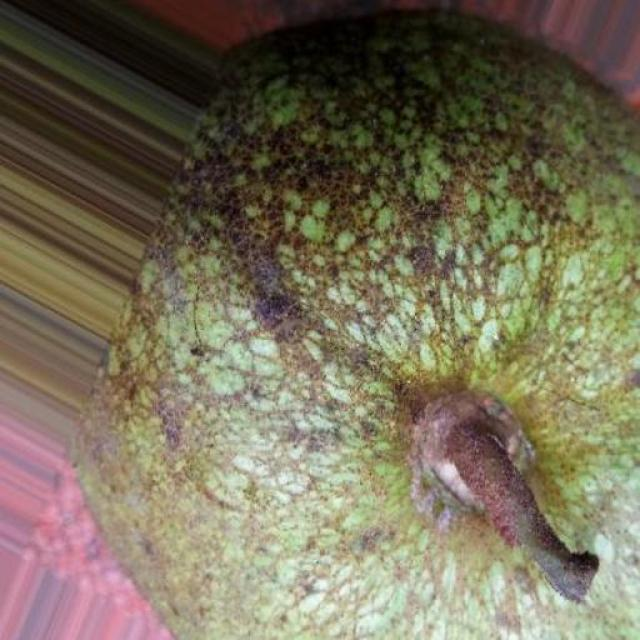Scab: (82, 15, 640, 640)
